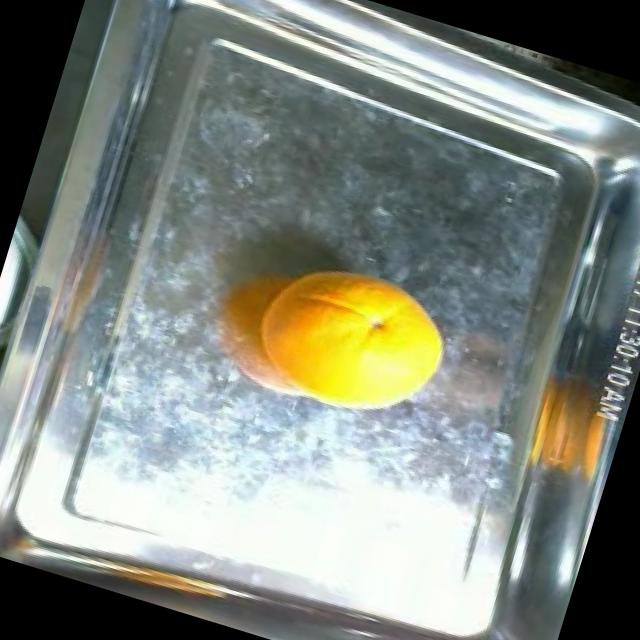Fruit: (240, 237, 476, 453)
